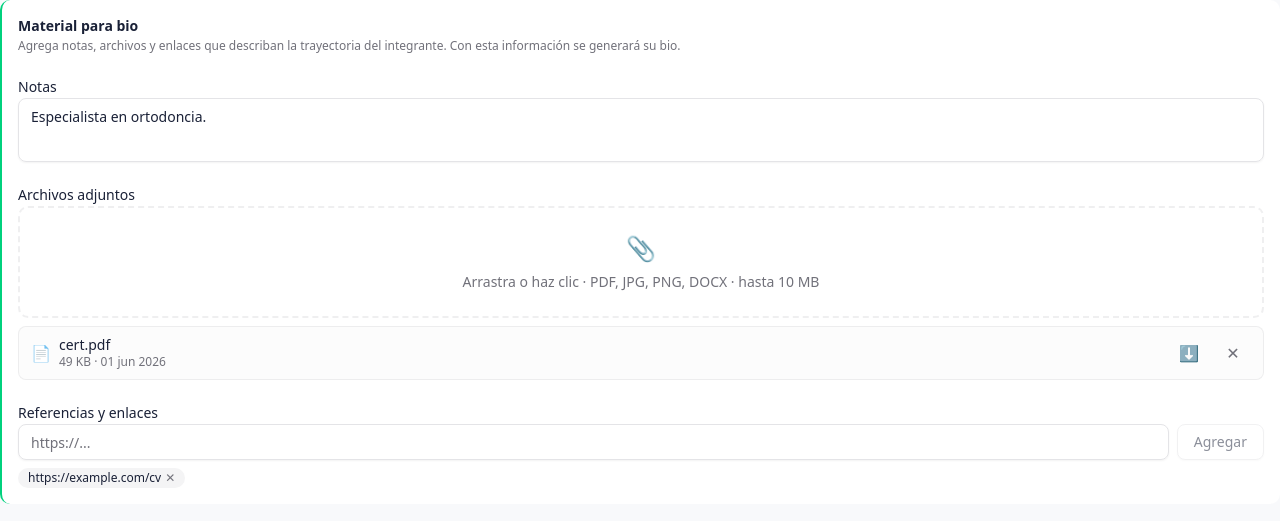
Test: BioRepoInputs › delete button shows confirm inline, cancel hides it
# Click delete button
Click the button named "Eliminar cert.pdf" at (1233, 353), box [1215,335,1251,371]
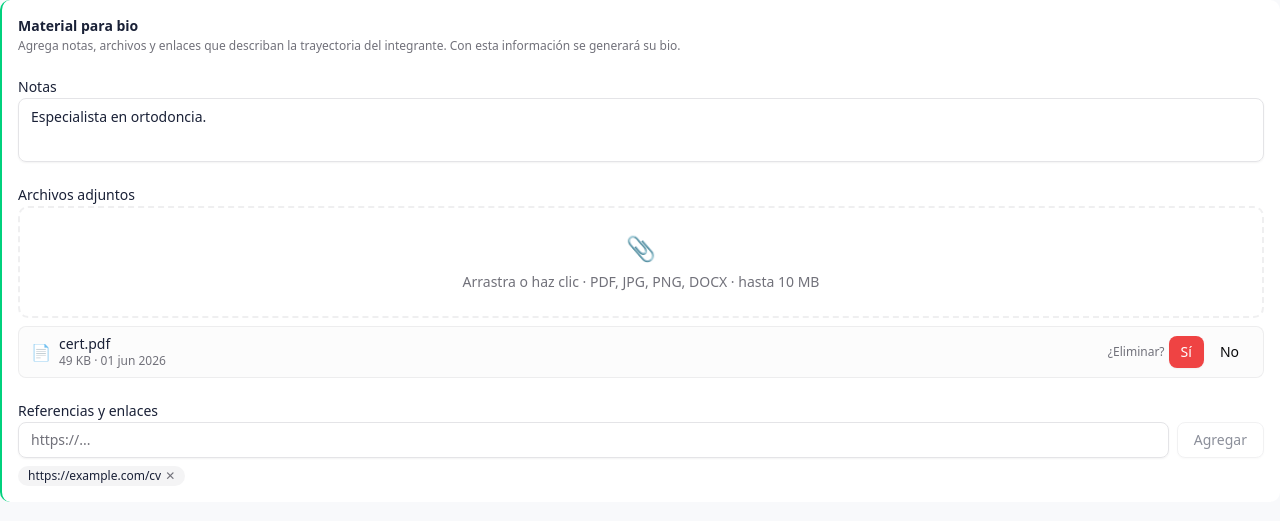
Check: the text "¿Eliminar?" is shown, box [1108,344,1165,360]
# Cancel restores
Click the button with aria-label "Cancelar eliminación" at (1229, 352), box [1208,336,1251,368]
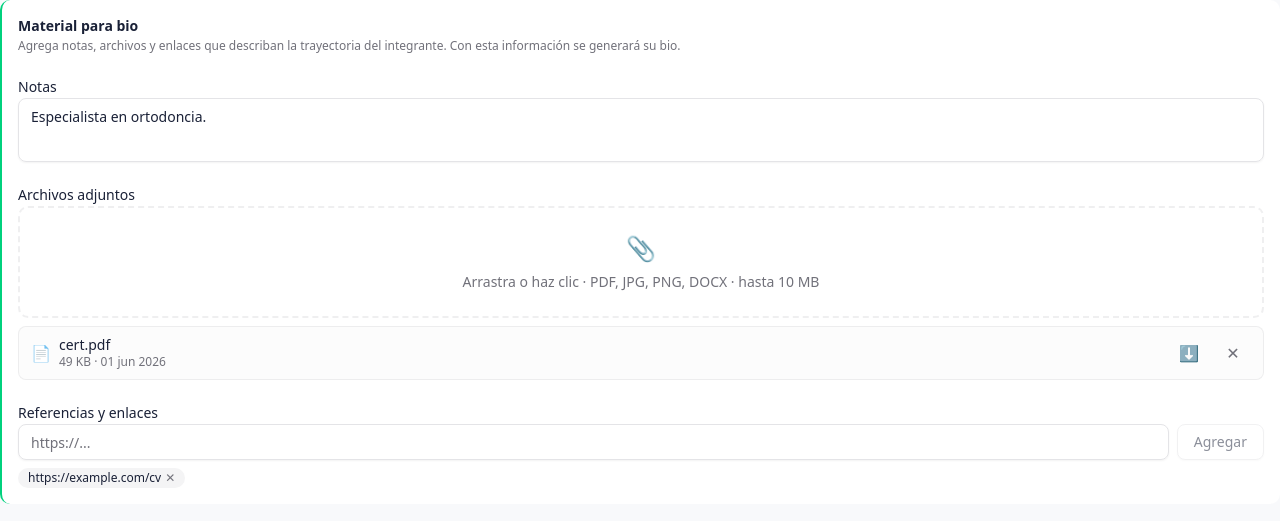
Check: the text "¿Eliminar?" is gone
